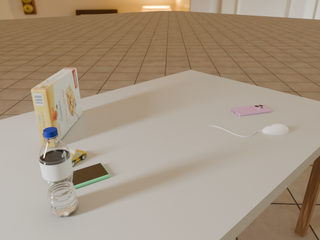bottle: (39, 127, 78, 217)
box: (31, 68, 82, 146)
mouse: (262, 124, 289, 135)
phone: (72, 163, 110, 188), (231, 105, 271, 116)
toy_car: (69, 149, 87, 166)
